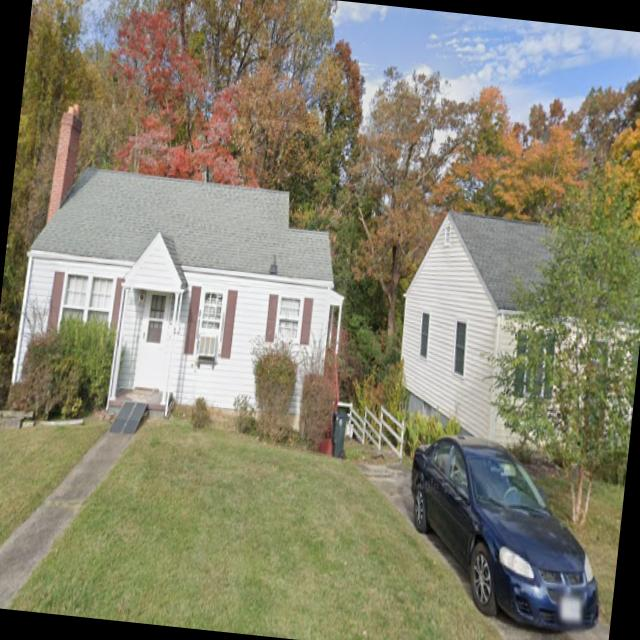House: (7, 96, 363, 440), (386, 204, 640, 467)
